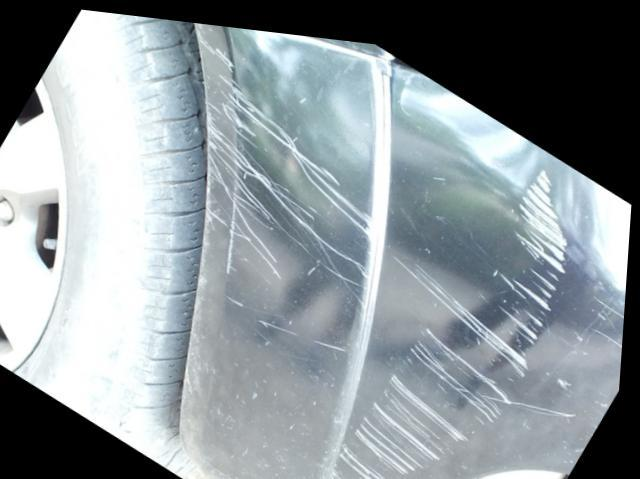scratch: (330, 148, 571, 479), (197, 30, 380, 346)
